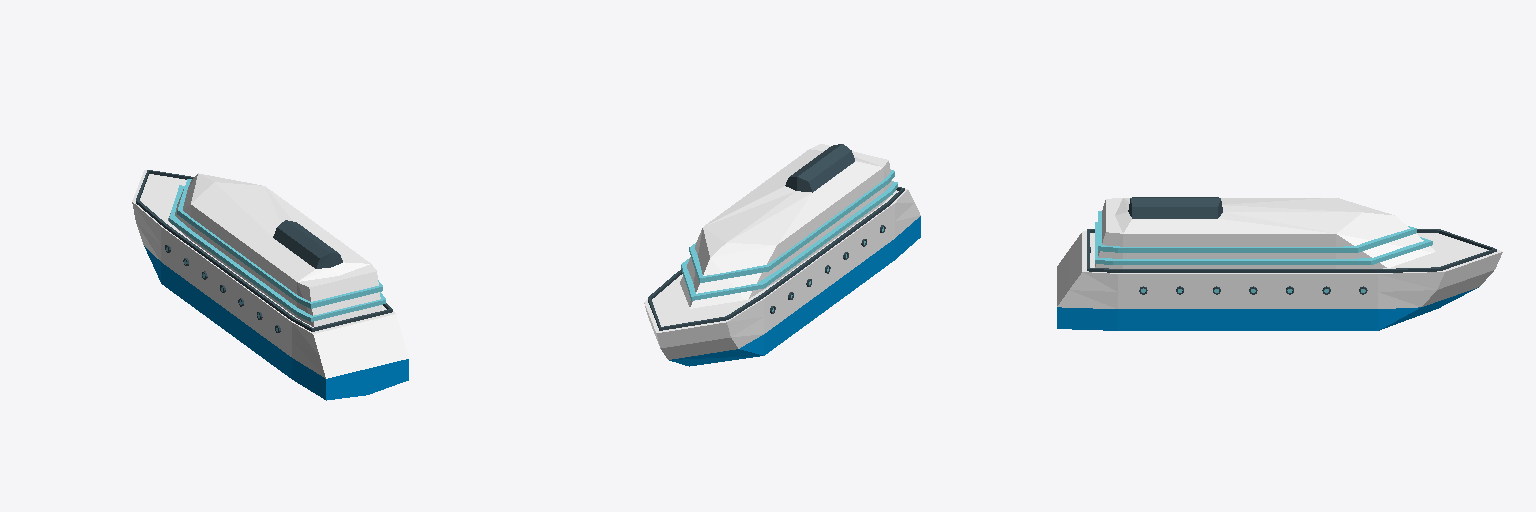
Rendered from Cruise_LIner_01.obj.
The picture shows the model from 3 angles: view 1: azimuth 30°, elevation 25°; view 2: azimuth 150°, elevation 25°; view 3: azimuth 270°, elevation 25°; orthographic projection.
Parts seen in each view (by area): view 1: Cruise_LIner_Cube; view 2: Cruise_LIner_Cube; view 3: Cruise_LIner_Cube.
Part boxes in pixels (x1,y1,x2,y2): Cruise_LIner_Cube: (132, 170, 408, 400); Cruise_LIner_Cube: (644, 144, 920, 366); Cruise_LIner_Cube: (1057, 197, 1502, 330).
Size of the model in its own units: 6.33 by 7.37 by 25.86.